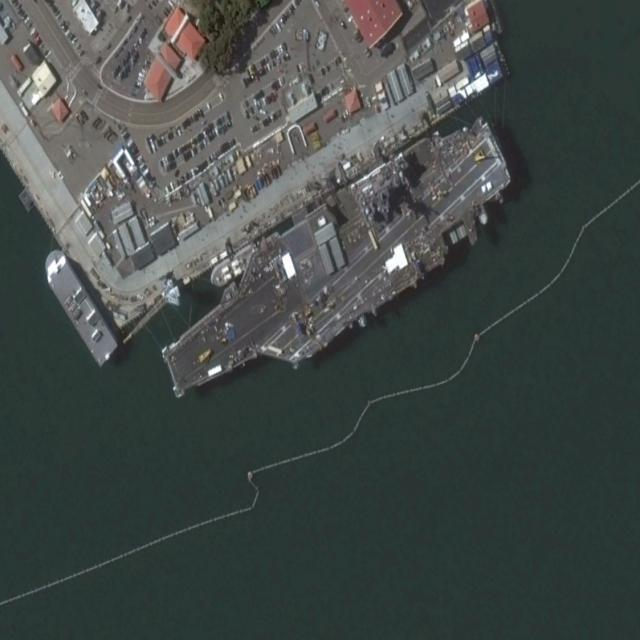Aircraft Carrier: (147, 97, 527, 436)
Other Ship: (38, 241, 120, 369)
